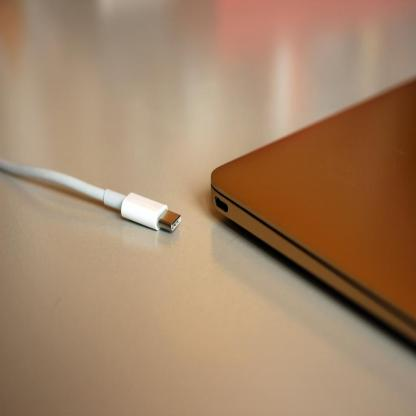board: (210, 75, 416, 344)
